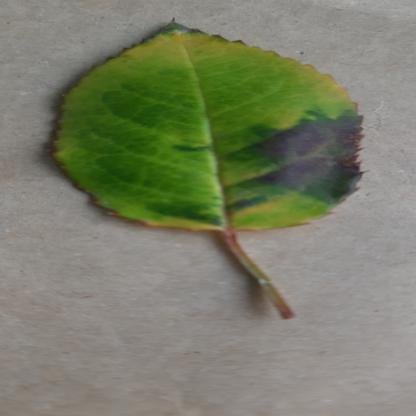downy-mildew: (40, 19, 369, 234)
